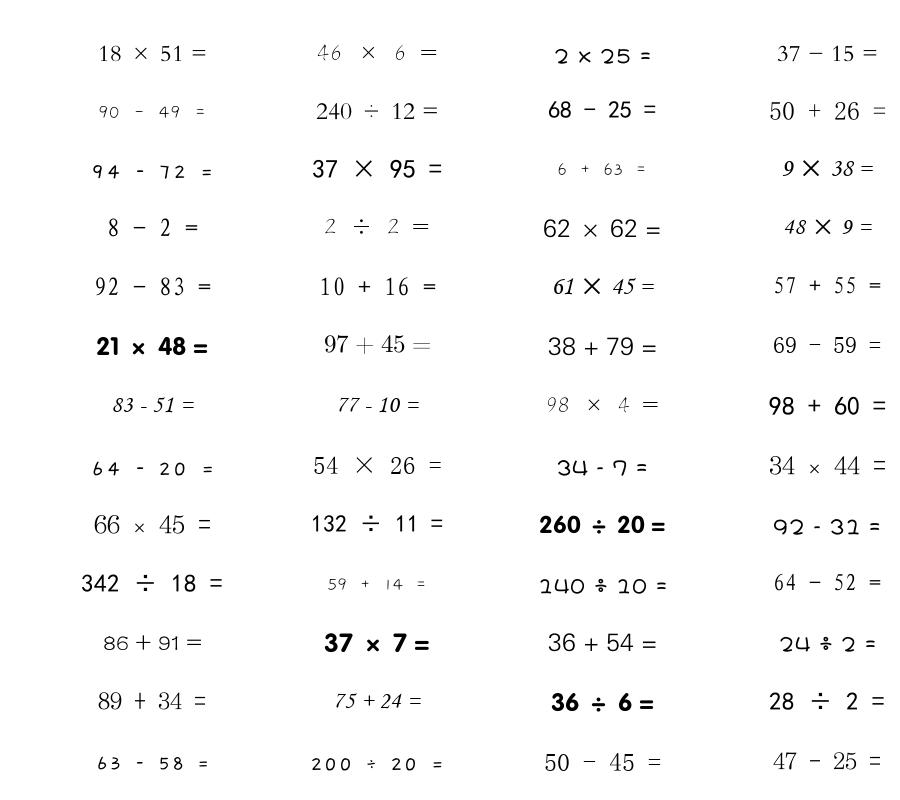MQ: (81, 574, 223, 592), (312, 159, 442, 178), (539, 515, 665, 534), (769, 396, 886, 416), (313, 456, 442, 474), (311, 515, 443, 532), (543, 219, 661, 238), (96, 336, 208, 356), (94, 277, 211, 296), (319, 277, 436, 296), (769, 456, 886, 475), (94, 515, 211, 534), (324, 335, 431, 355), (324, 633, 430, 653), (769, 102, 886, 120), (544, 753, 661, 771), (316, 103, 439, 120), (769, 692, 885, 710), (548, 337, 657, 356), (548, 633, 657, 652), (538, 578, 667, 594), (551, 692, 654, 712), (317, 44, 438, 61), (773, 573, 881, 591), (98, 692, 206, 710), (773, 752, 881, 770), (90, 461, 215, 476), (98, 45, 207, 62), (548, 101, 656, 118), (773, 277, 881, 294), (546, 397, 659, 413), (551, 278, 654, 295), (310, 758, 444, 771), (90, 165, 214, 179), (107, 218, 198, 237), (773, 337, 881, 353), (773, 519, 881, 535), (777, 45, 878, 62), (324, 218, 430, 234), (103, 634, 202, 651), (95, 756, 210, 770), (781, 160, 873, 177), (554, 48, 651, 64), (779, 636, 876, 652), (98, 105, 207, 119), (556, 460, 648, 476), (783, 219, 872, 235), (333, 693, 421, 709), (111, 397, 194, 413), (336, 397, 419, 413), (327, 578, 427, 591), (557, 163, 647, 176)
